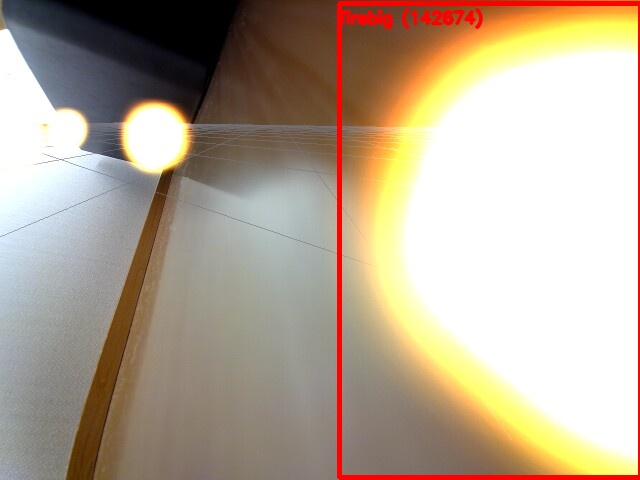firebig: (339, 3, 640, 477)
